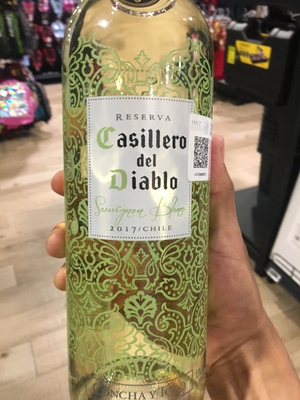casillero del diablo sauvignon blanc: (61, 5, 220, 396)
